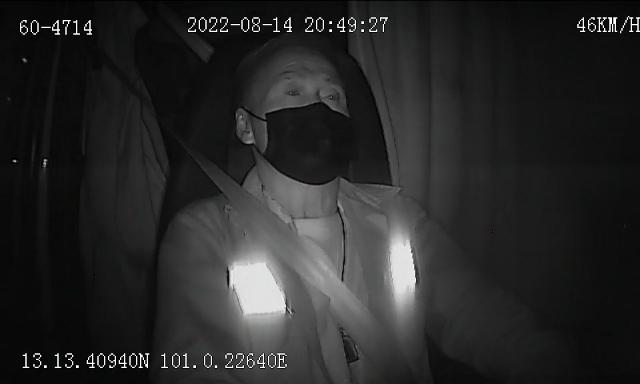Seatbelt: (184, 146, 398, 384)
